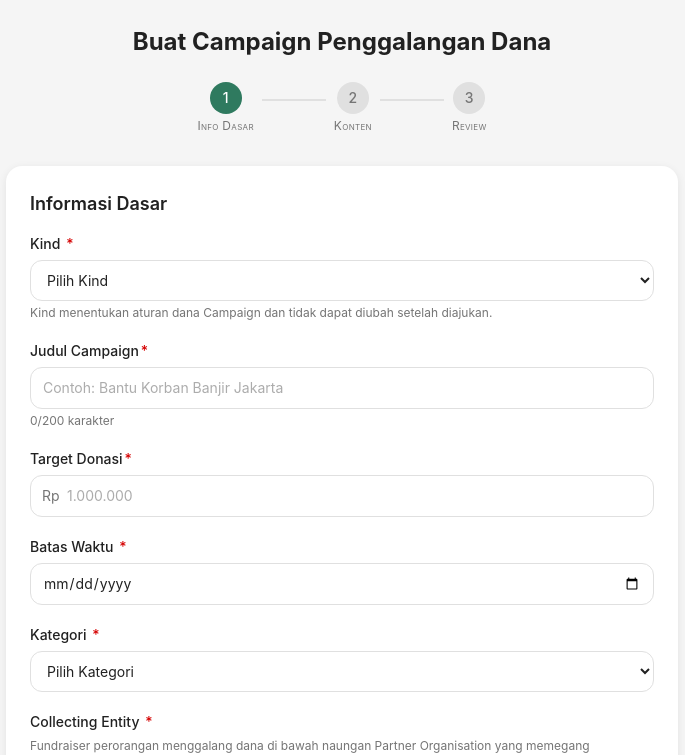
CampaignCreatePage review step › holds any other Kind on the first step until a deadline is chosen
This screenshot has width=685, height=755.
Select "Hibah" in the dropdown labelled "Kind" at [342, 280], box [30,260,654,301]
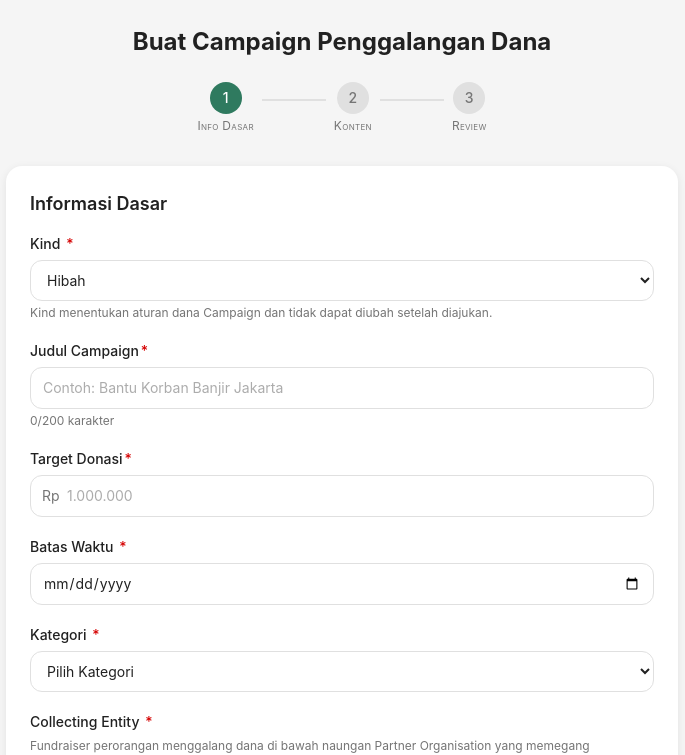
Type "Bantu Banjir" into the field with placeholder "Contoh: Bantu Korban Banjir Jakarta" at [342, 388], box [30,367,654,409]
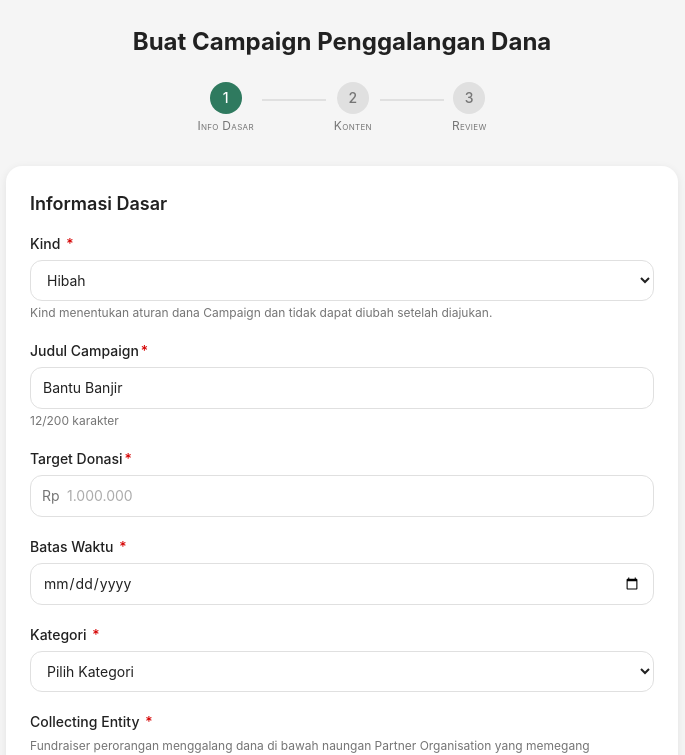
Type "5000000" into the field with placeholder "1.000.000" at [342, 496], box [30,475,654,517]
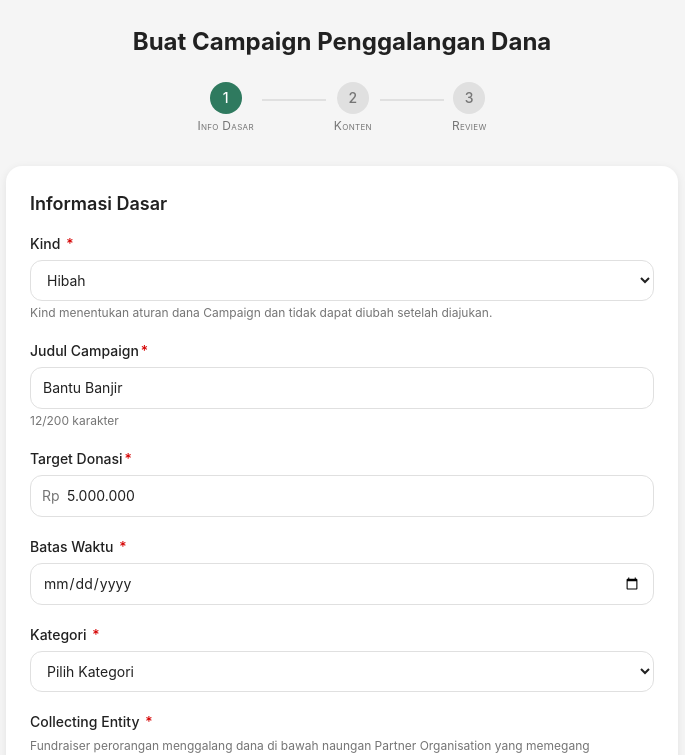
Select "Bencana Alam" in the dropdown named "Kategori" at [342, 672], box [30,651,654,692]
(page scrolled)
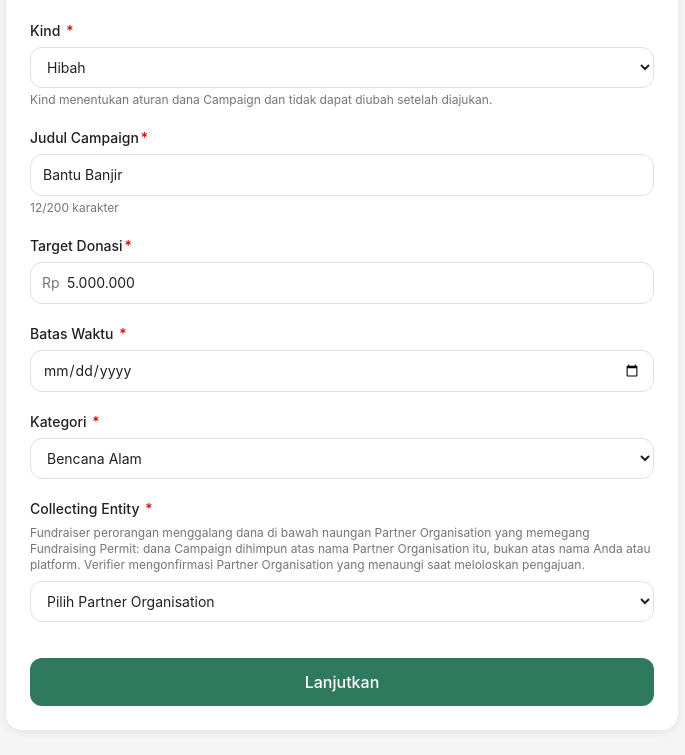
Click the button "Lanjutkan" at [342, 682], box [30,658,654,706]
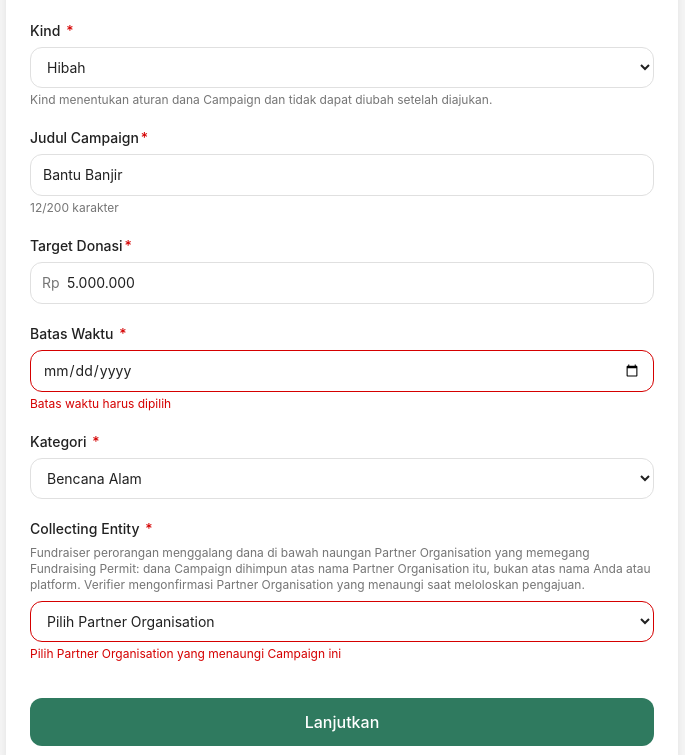
Now the text "Batas waktu harus dipilih" is shown, box [30,396,171,411]
